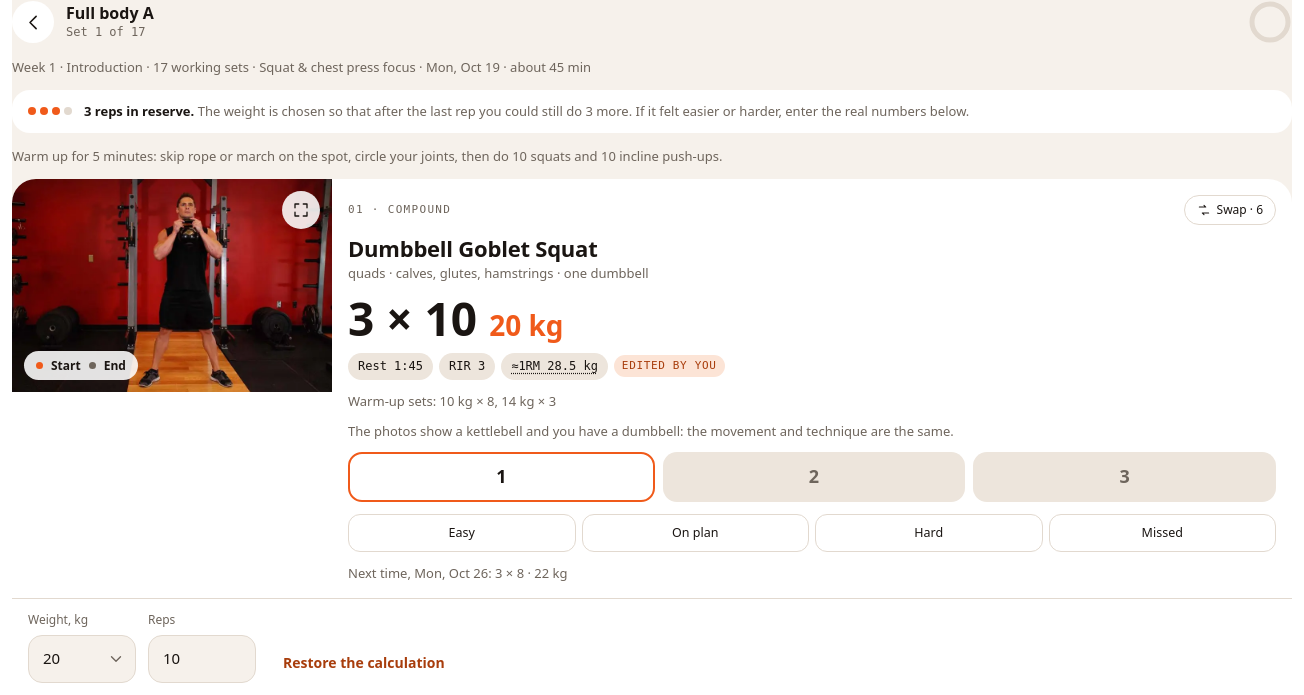
Scenario: SessionScreen: edits › restores the calculation
Click the button "Restore the calculation" at (364, 664), box [268,644,460,682]
(page scrolled)
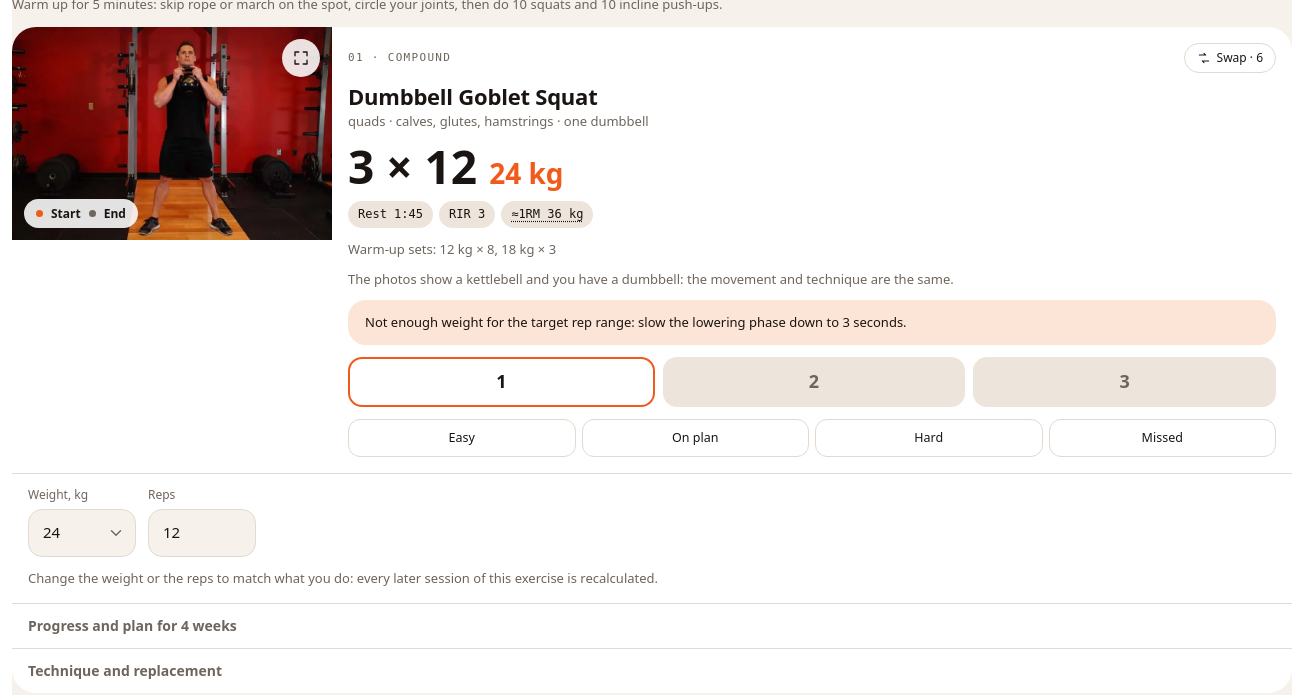
Result: the element "Dumbbell Goblet Squat" shows "3 × 12" at [348,135,477,197]
Result: the button "Restore the calculation" is gone
